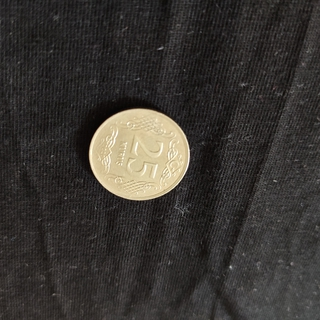25KURUS: (87, 106, 191, 203)
